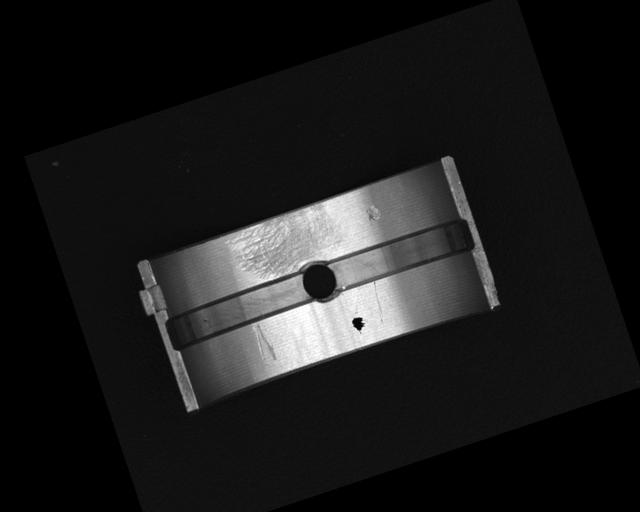blot: (349, 314, 369, 336)
bruise: (364, 202, 381, 221)
gap: (161, 271, 312, 351), (326, 215, 476, 295)
hole: (296, 256, 344, 309)
nick: (248, 321, 279, 366), (368, 281, 387, 322)
scratch: (223, 198, 350, 287)
